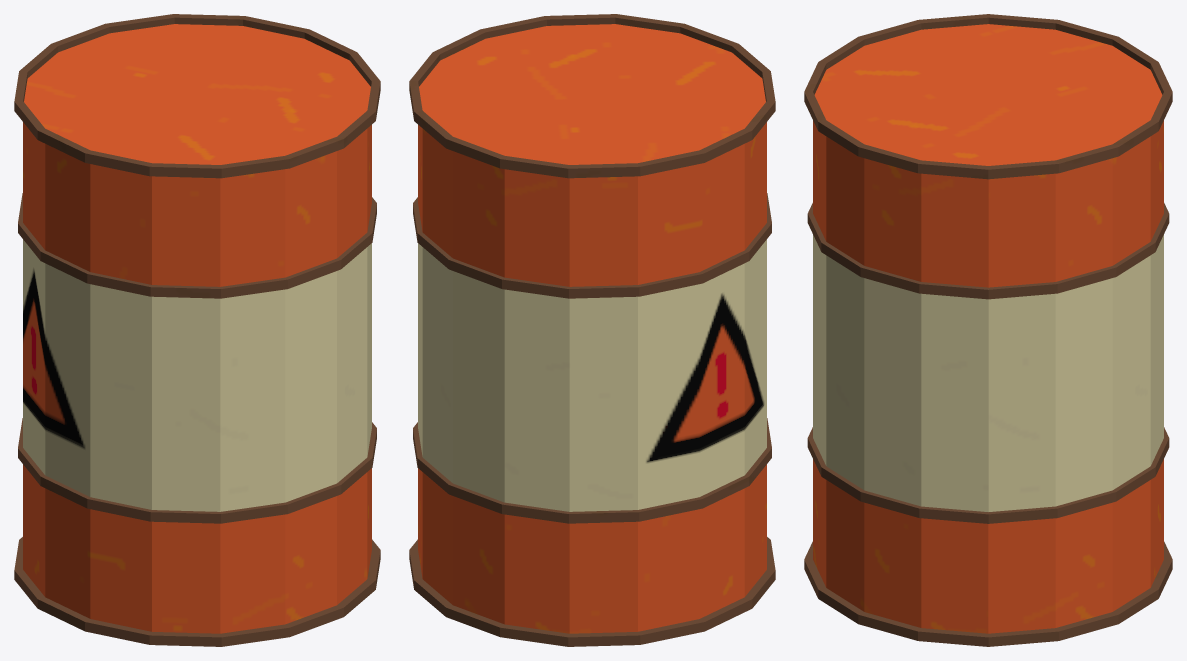
File: Red Barrel.fbx
3 renders of one model, left to right at view 1: azimuth 30°, elevation 25°; view 2: azimuth 150°, elevation 25°; view 3: azimuth 270°, elevation 25°, orthographic.
Visible parts, largest first — view 1: RedBarrel; view 2: RedBarrel; view 3: RedBarrel.
Part boxes in pixels (x1,y1,x2,y2): RedBarrel: (14,14,380,646); RedBarrel: (409,14,775,646); RedBarrel: (804,14,1172,646).
Size of what is drawn, in the model's own units: 1.05 by 1.5 by 1.05.
Materials: 1 (1 with a texture image).
